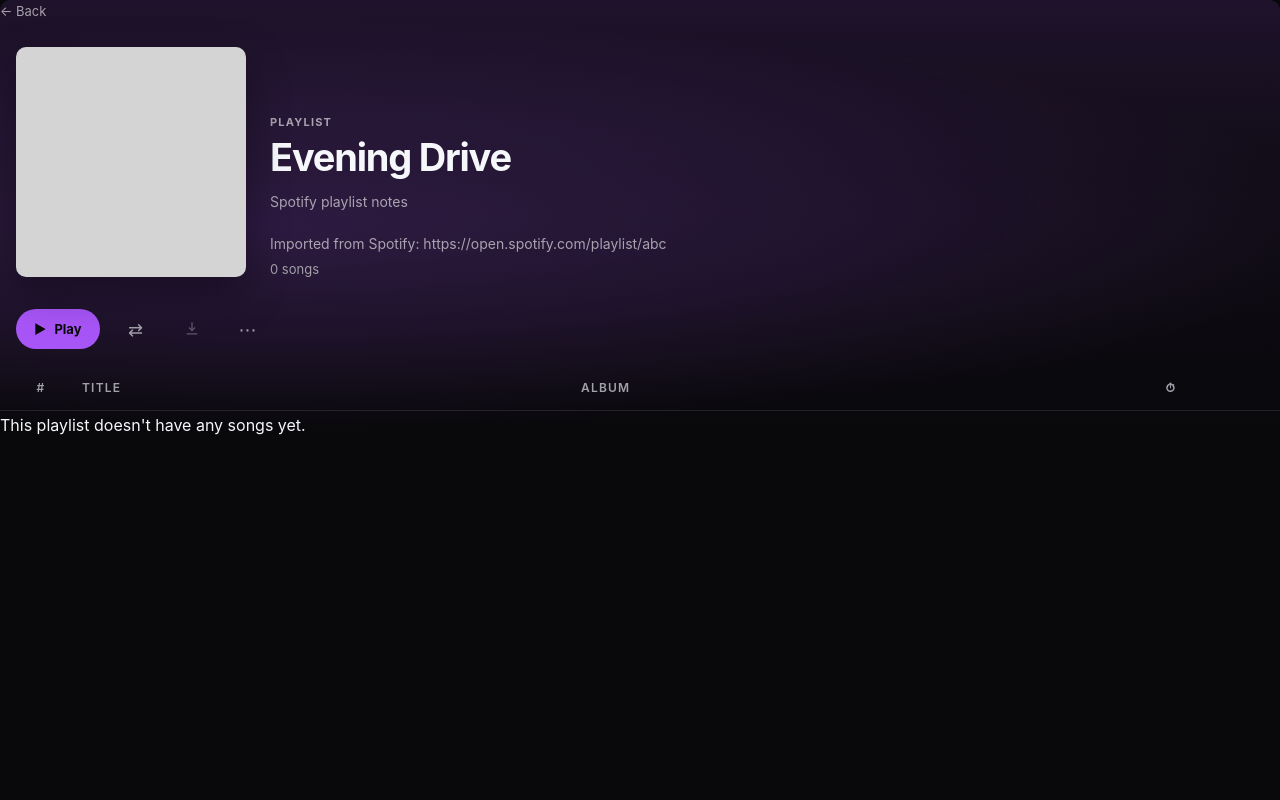
Test case: renders the playlist description in the hero and saves edited details
The width and height of the screenshot is (1280, 800).
Check: the text "Spotify playlist notes" shows "Imported from Spotify", box [270,193,667,252]
Click the button named "More options": (248, 329) [228,309,268,349]
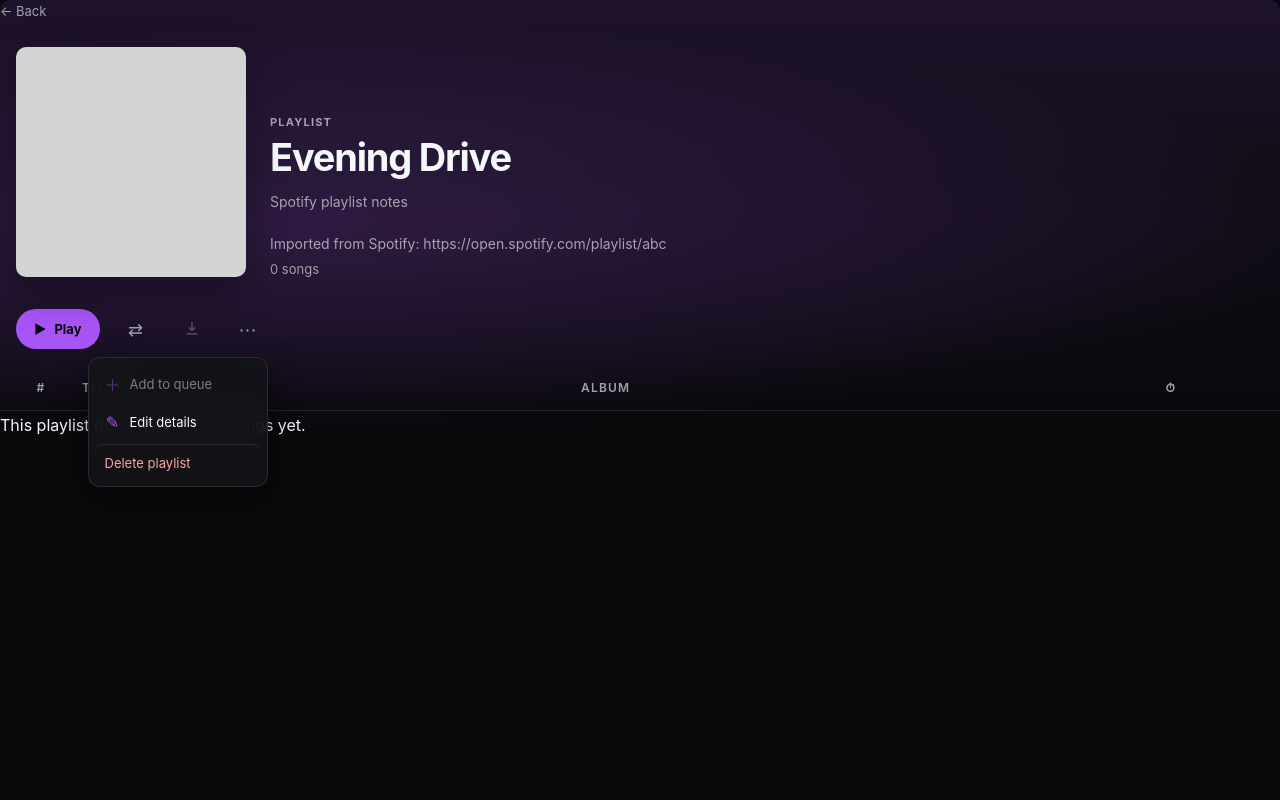
Click the menu item "✎ Edit details": (178, 422) [94,404,260,440]
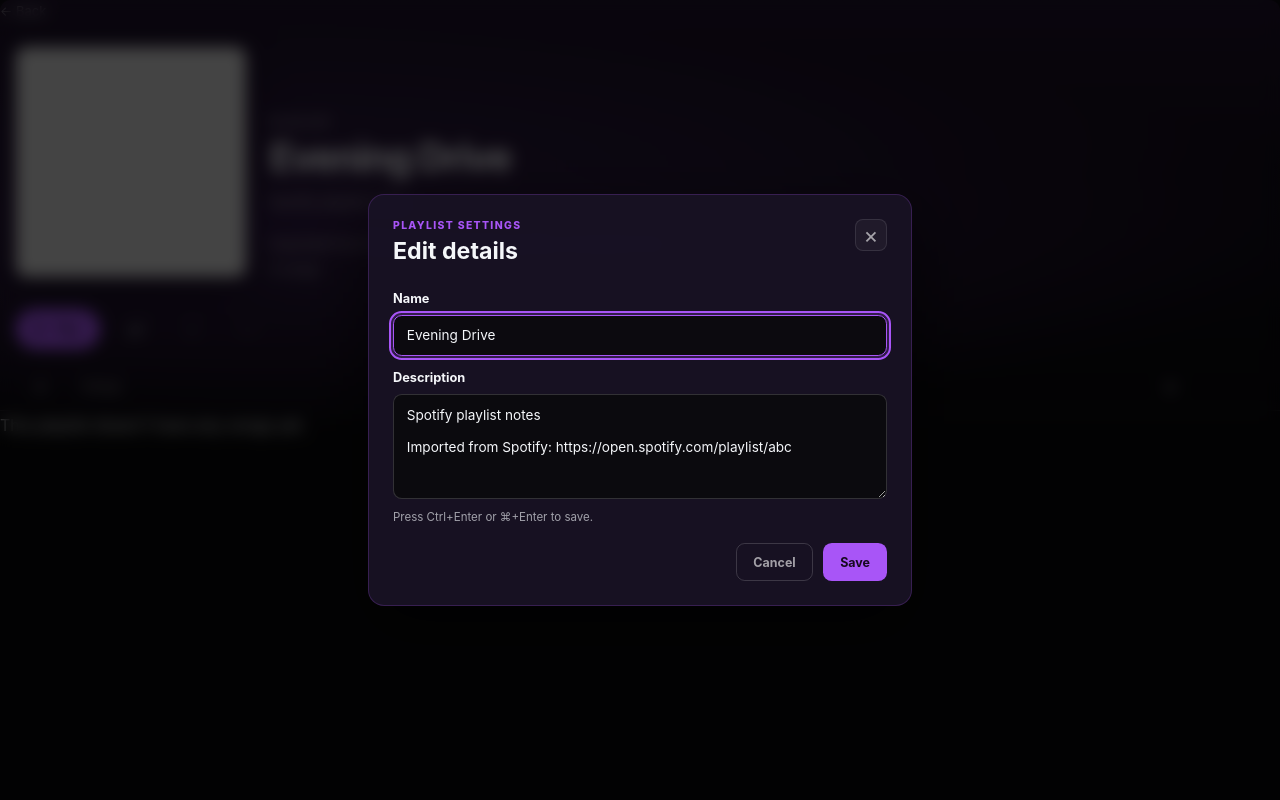
Check: the field labelled "Name" holds "Evening Drive"
Replace the text in the field labelled "Name" with "Updated playlist": (640, 335) [393,315,887,356]
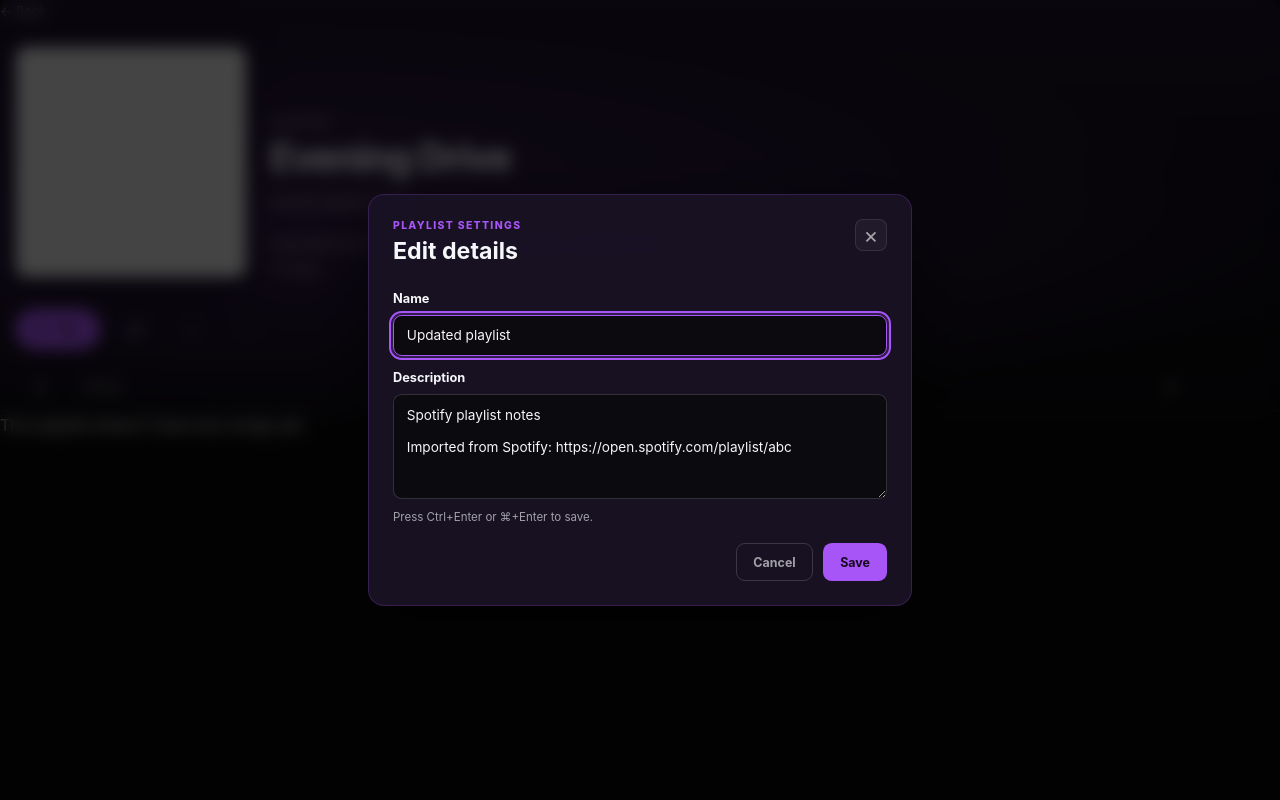
Replace the text in the text box labelled "Description" with "Updated description": (640, 446) [393,394,887,499]
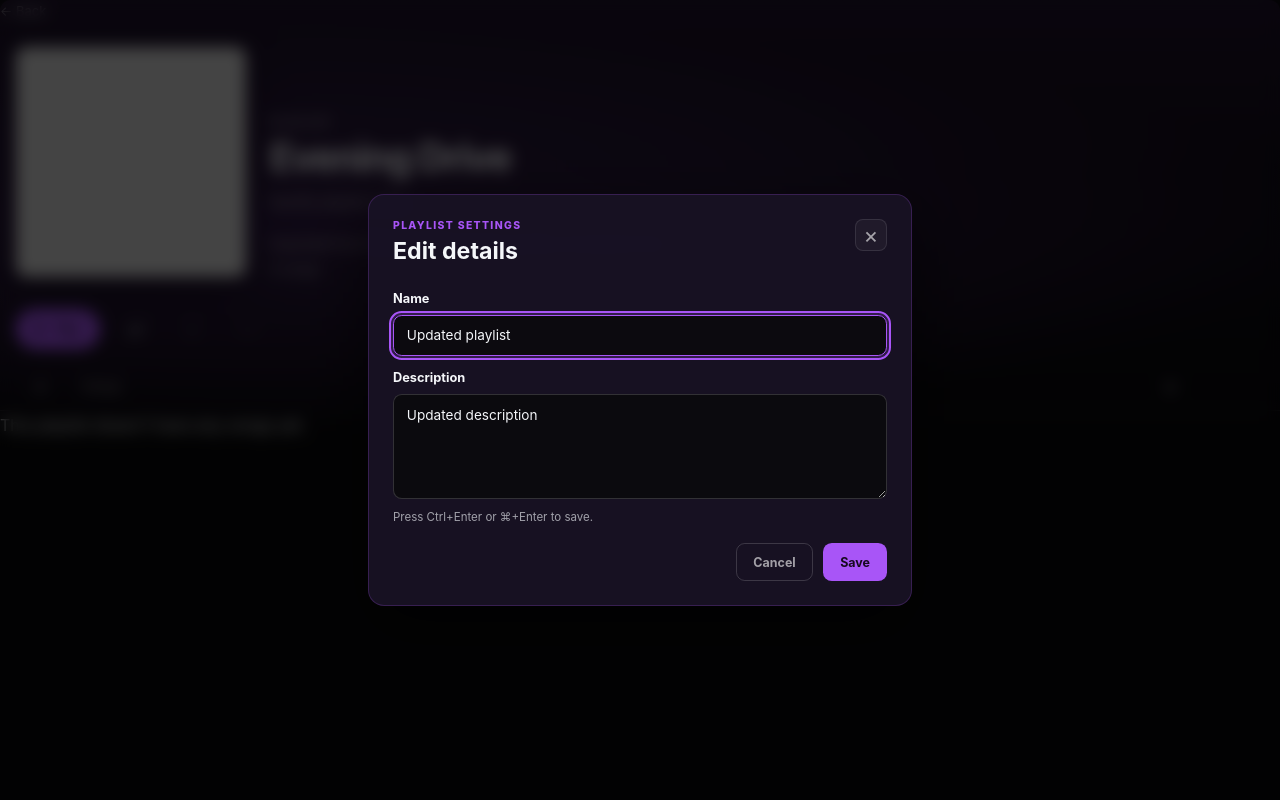
Press Enter
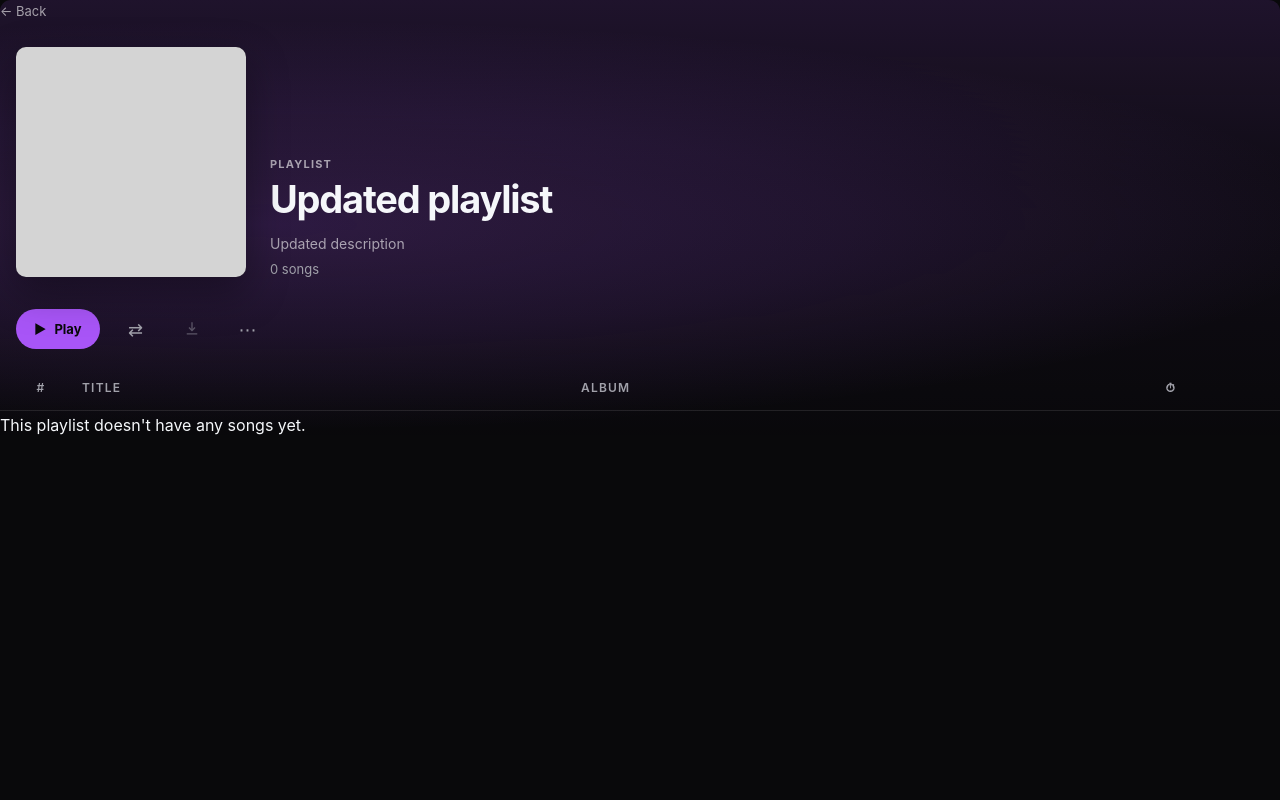
Check: the heading "Updated playlist" is shown, box [270,179,552,221]
Check: the dialog is gone
